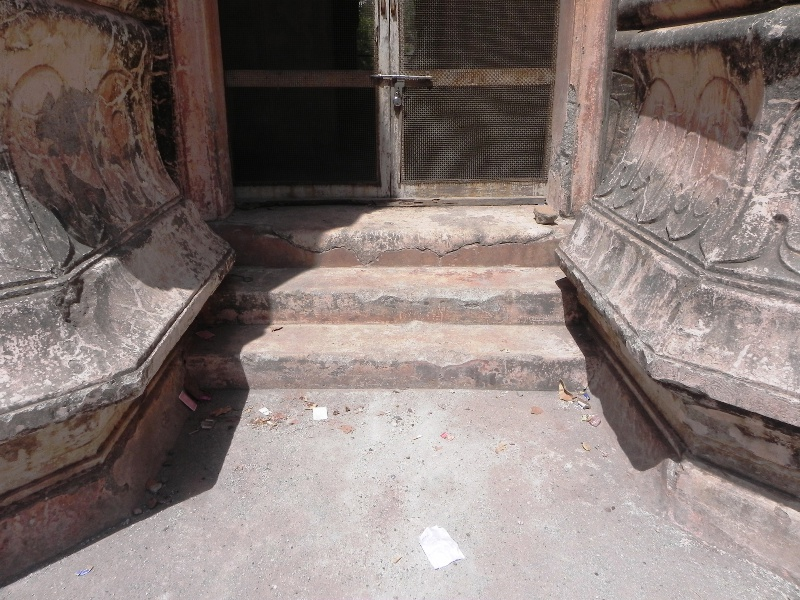Crack: (368, 239, 519, 266), (243, 227, 343, 254)
